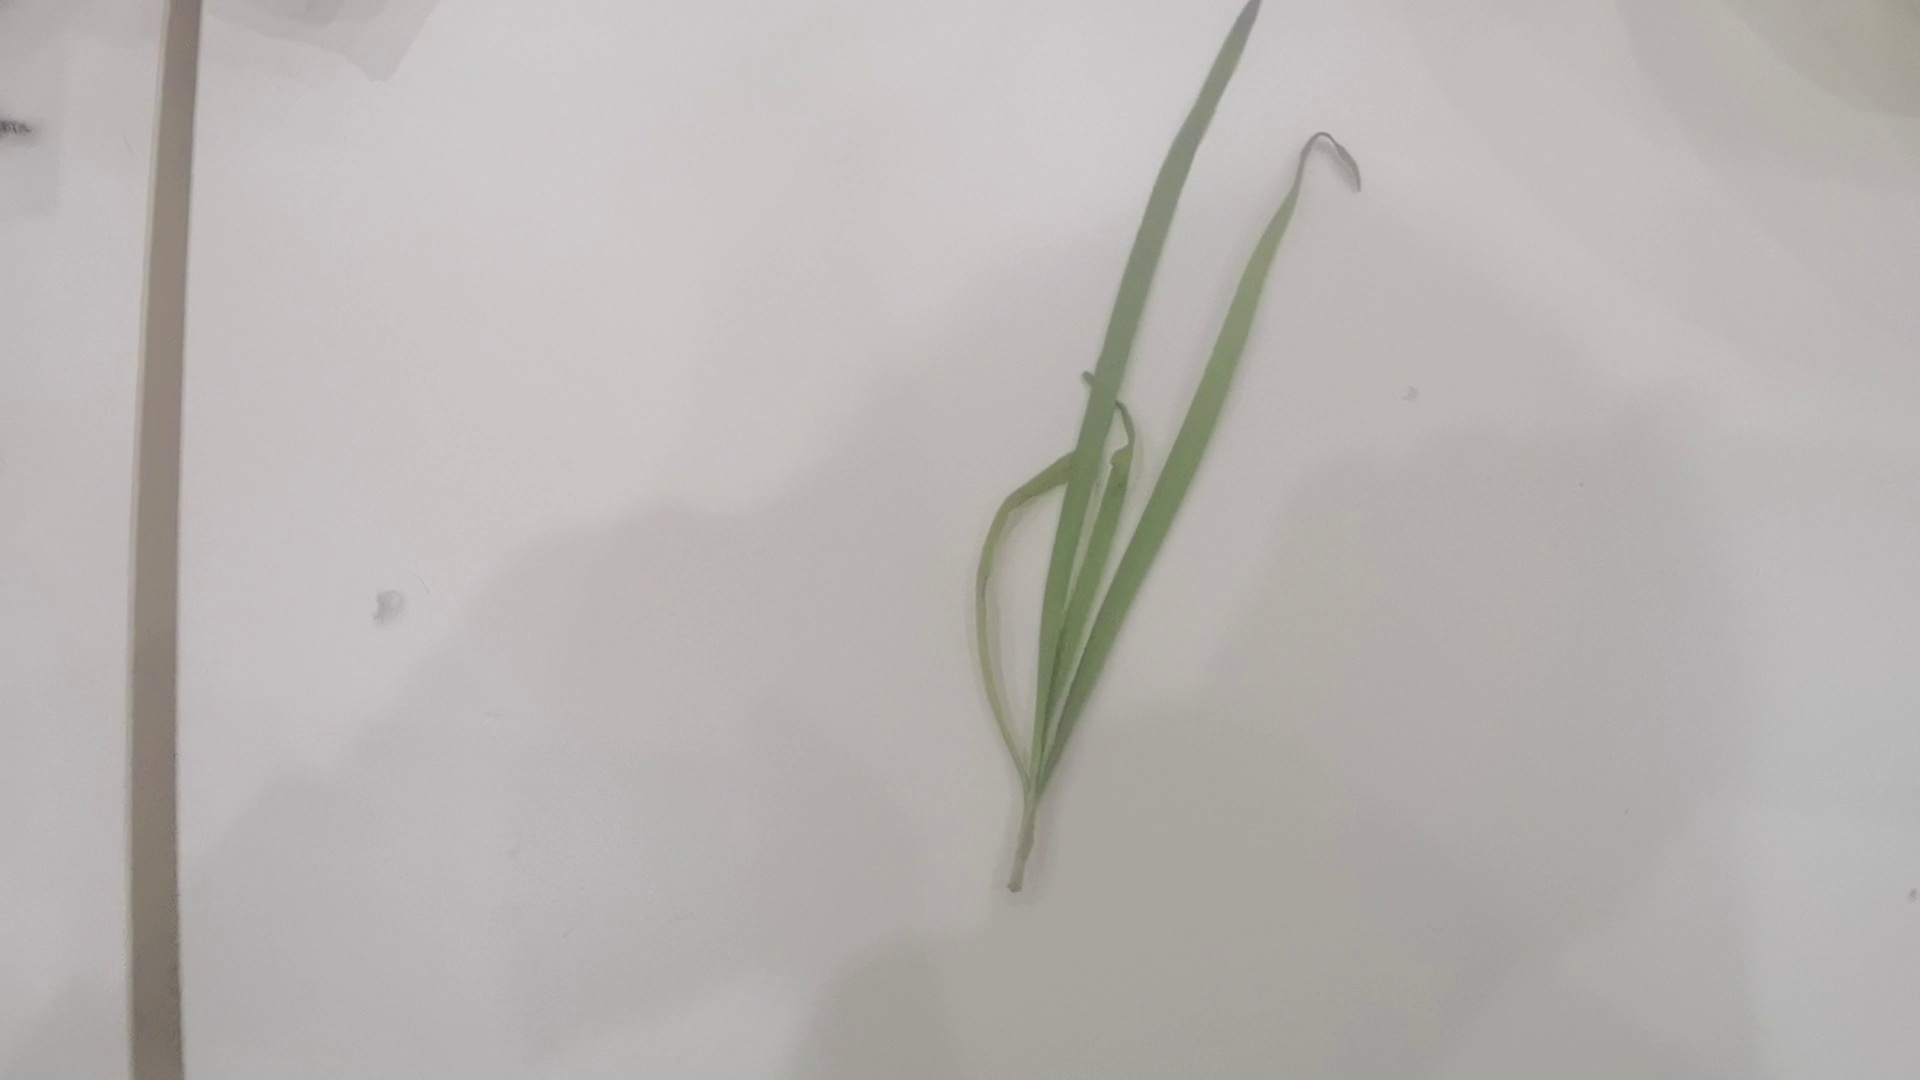chives: (967, 20, 1366, 938)
